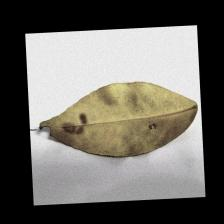black spot: (33, 97, 103, 149)
